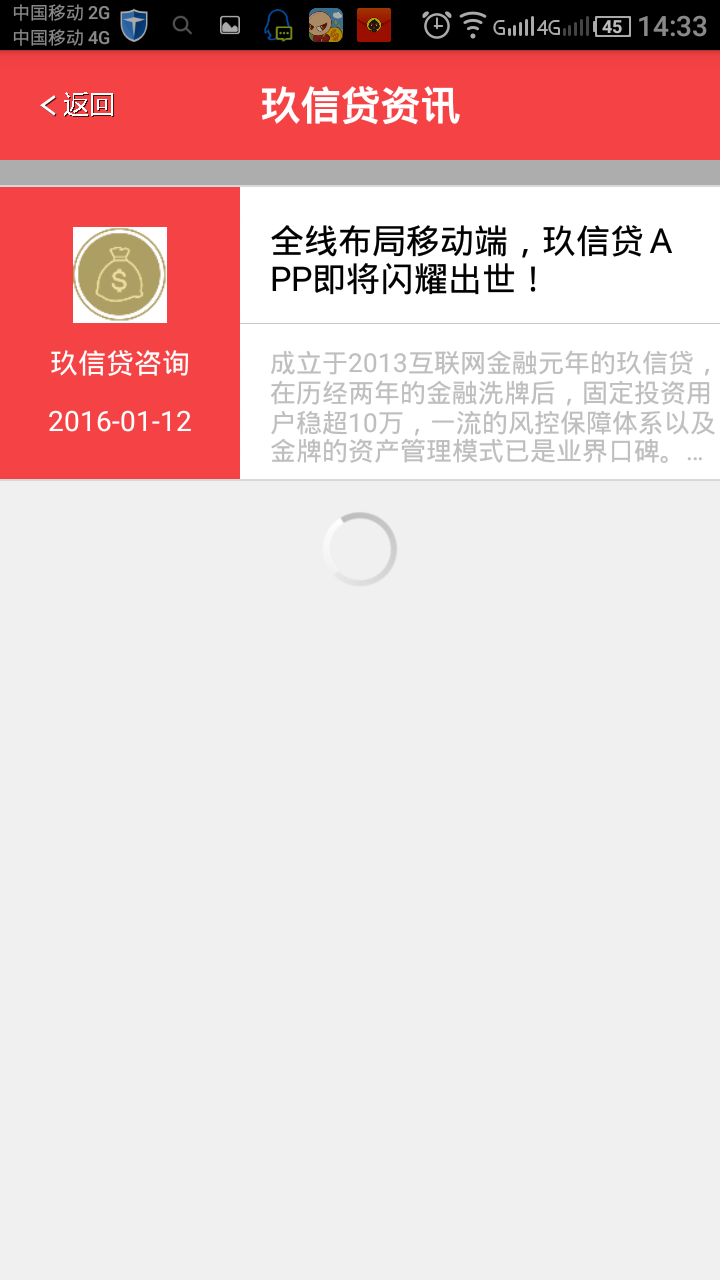textview: (4, 190, 720, 481)
